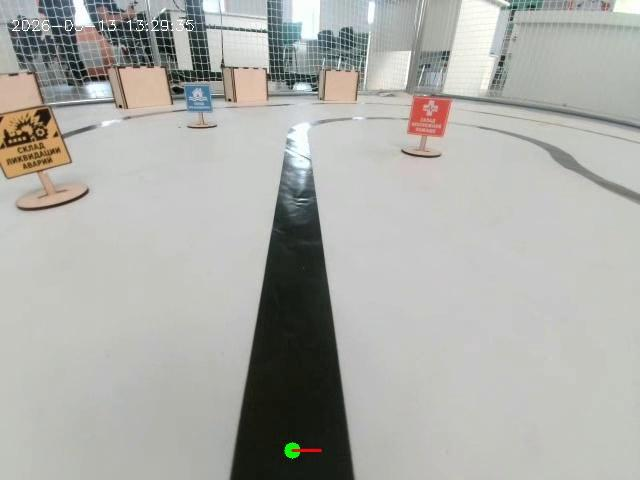flood: (184, 68, 214, 144)
industrial: (0, 102, 96, 205)
medical: (401, 77, 453, 164)
